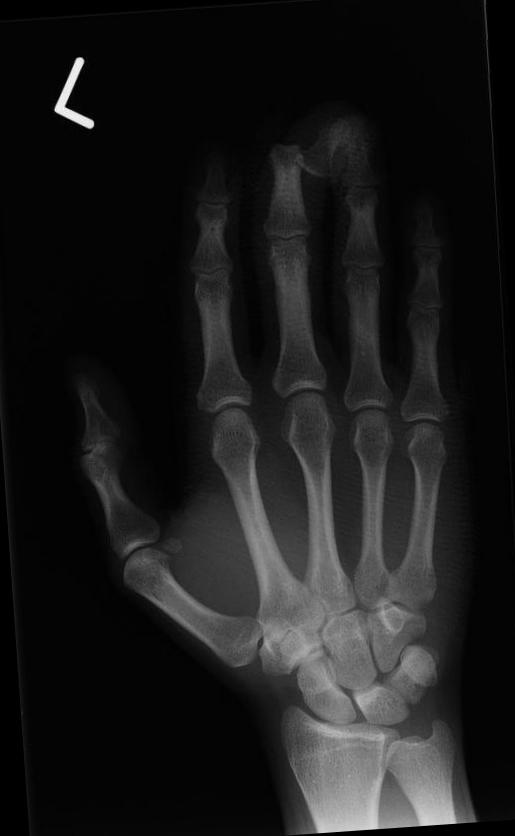fracture: (278, 136, 314, 179)
